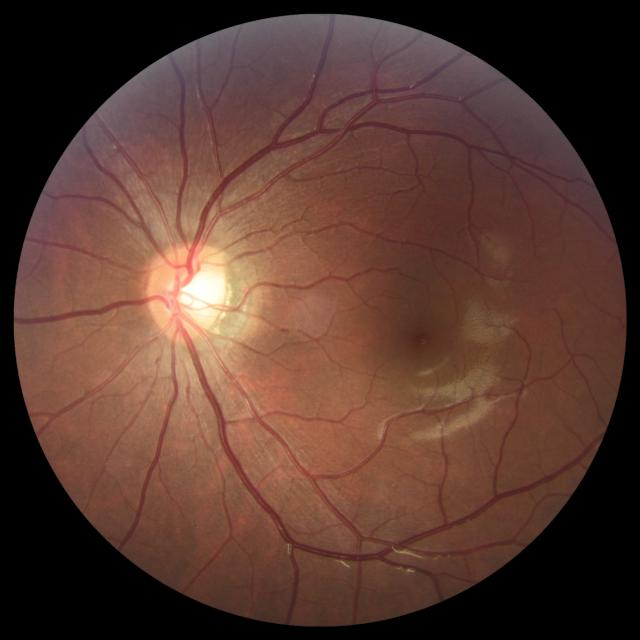OC: (171, 267, 216, 317)
OD: (145, 242, 229, 339)
